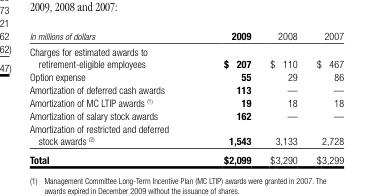table: (28, 28, 343, 165)
table column: (28, 28, 193, 165), (193, 28, 259, 165), (259, 28, 306, 165), (306, 28, 343, 165)
table column header: (28, 28, 343, 43)
table projected row header: (28, 43, 343, 57), (28, 121, 343, 133)
table row: (28, 133, 343, 149), (28, 149, 343, 165), (28, 28, 343, 43), (28, 43, 343, 57), (28, 69, 343, 82), (28, 82, 343, 95), (28, 95, 343, 108), (28, 108, 343, 121), (28, 57, 343, 69), (28, 121, 343, 133)
